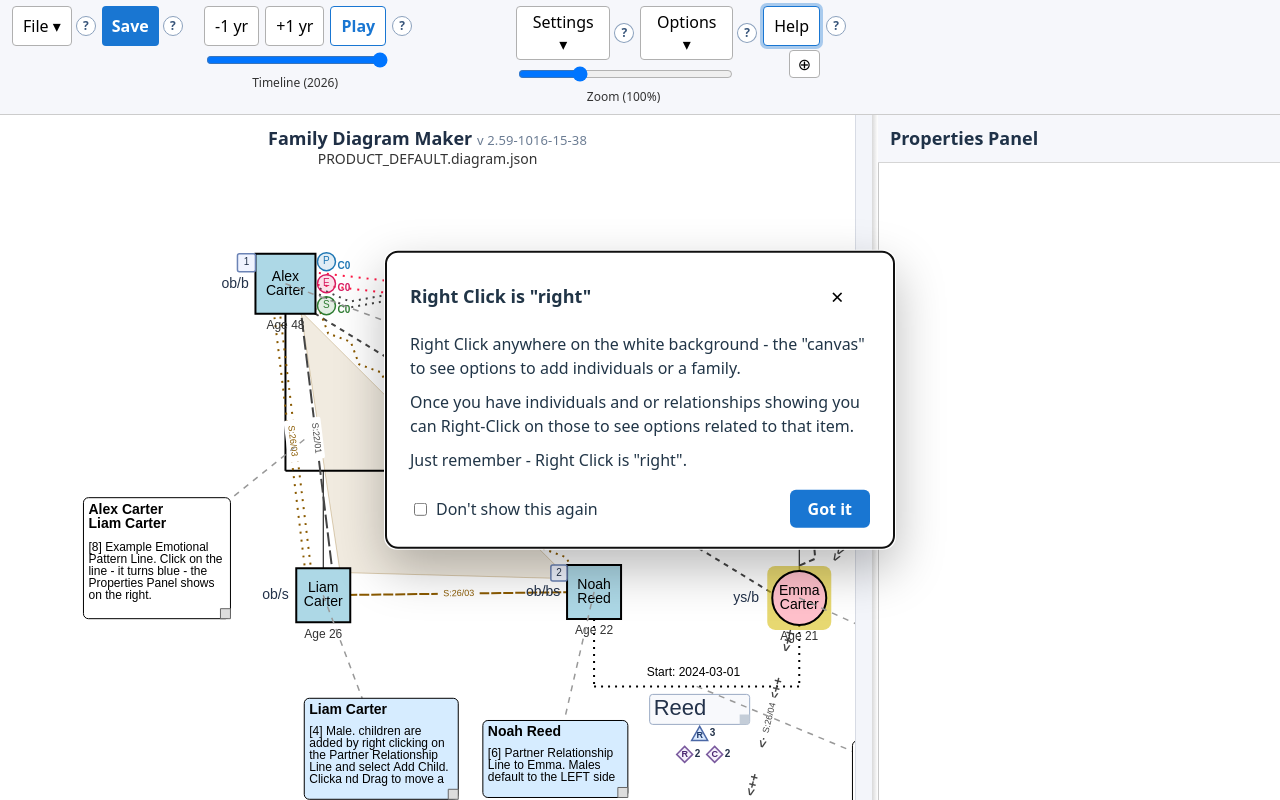
Test: DiagramEditor › reviews voice commands in the voice input dialog
This screenshot has width=1280, height=800.
Click the button "Options ▾".
click(687, 33)  # box [640,6,733,60]
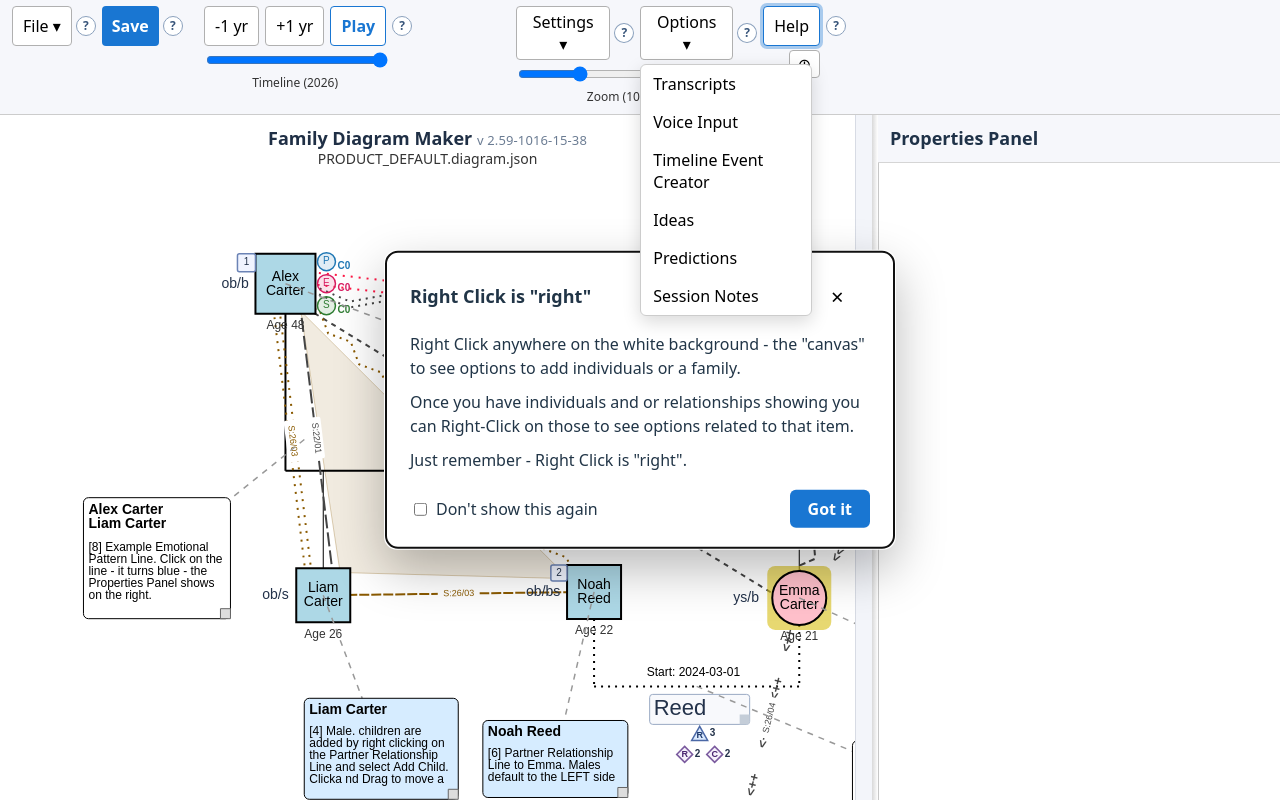
Click the button "Voice Input".
click(726, 122)  # box [641,103,811,141]
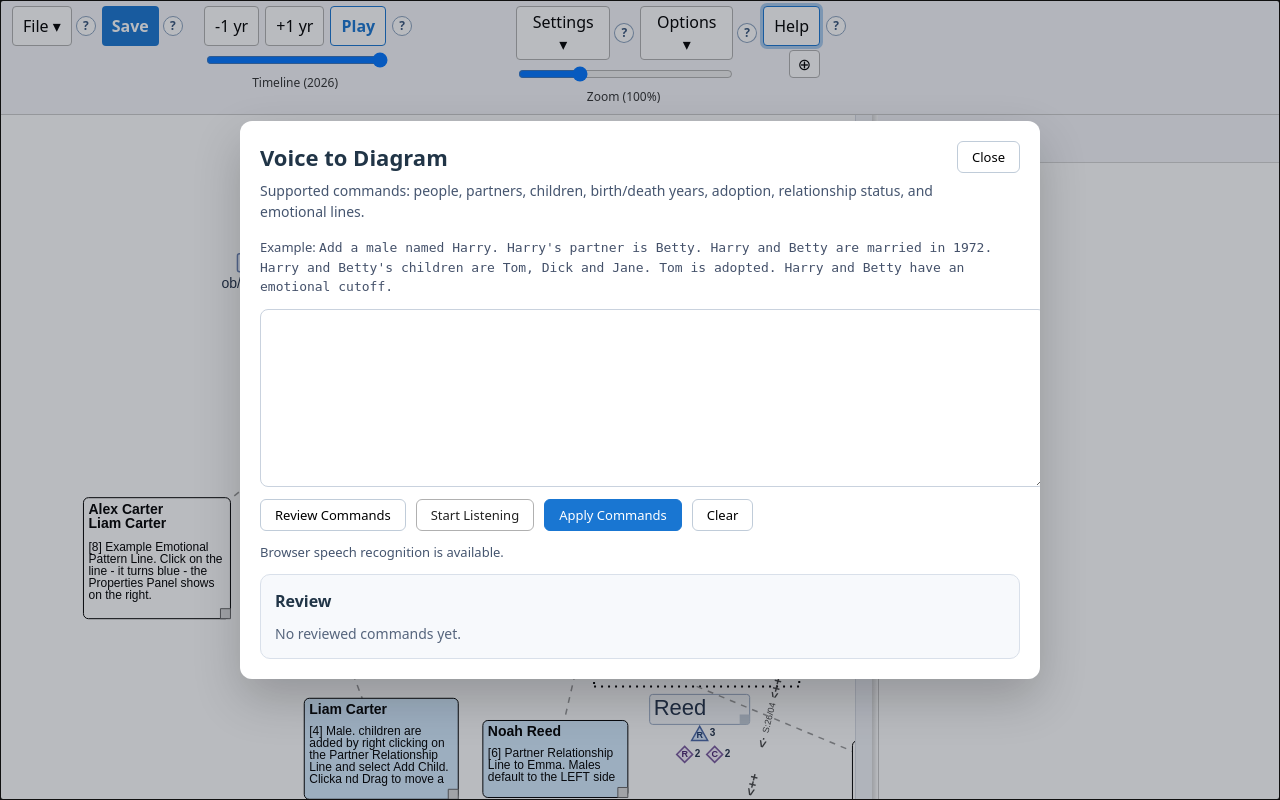
Expected: the dialog named "voice input" is shown
Type "Add a male named Harry. Harry's partner is Betty. Harry and Betty's children are Tom, Dick and Jane." into the text box named "voice command text".
click(653, 398); type("Add a male named Harry. Harry's partner is Betty. Harry and Betty's children are Tom, Dick and Jane.")  # box [260,308,1046,486]
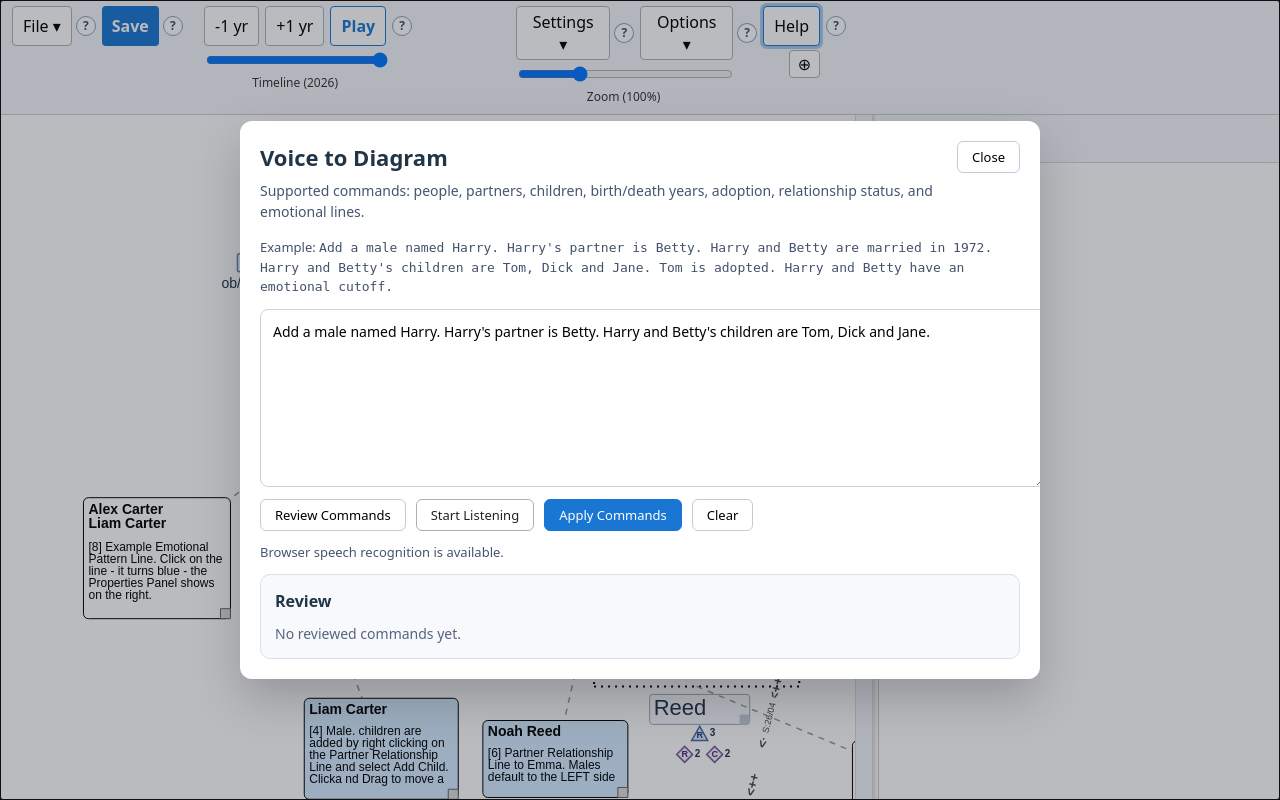
Click the button "Review Commands".
click(333, 514)  # box [260,498,406,530]
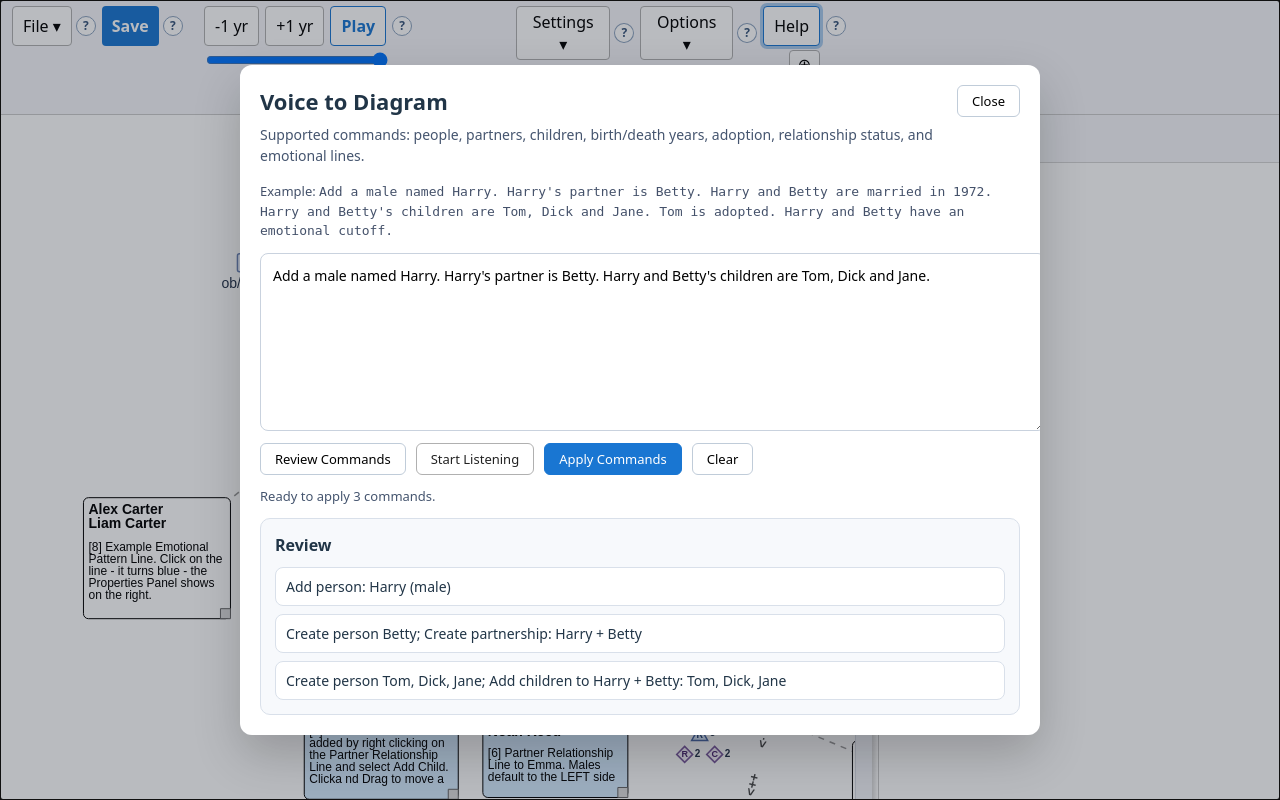
Expected: the text "Add person: Harry (male)" is shown, [275,567,1005,606]
Expected: the text "Create person Betty; Create partnership: Harry + Betty" is shown, [275,614,1005,653]
Expected: the text "Add children to Harry + Betty: Tom, Dick, Jane" is shown, [286,671,786,690]
